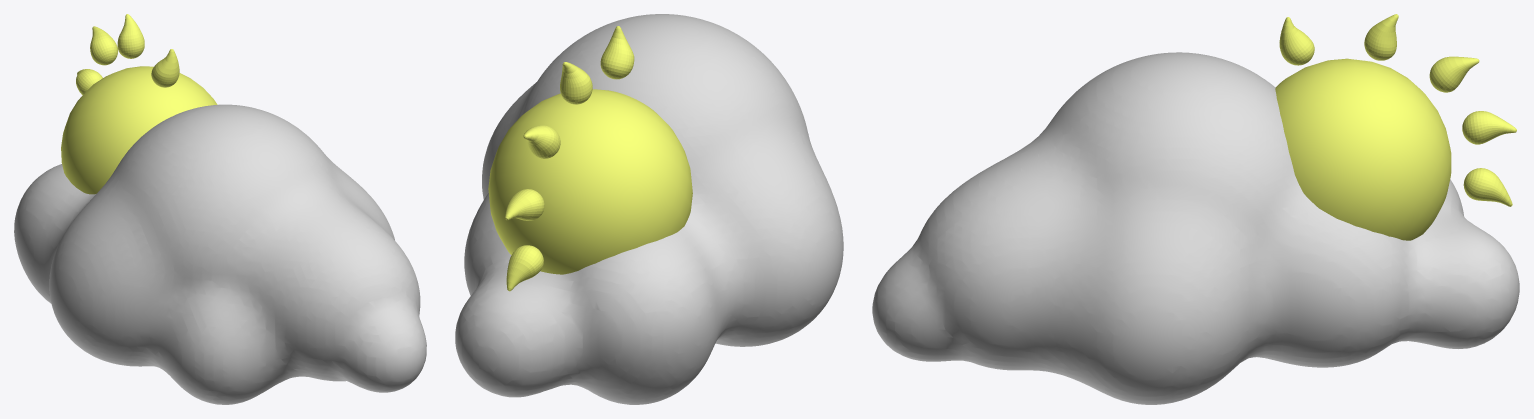
The model's file is mrakSlunce.fbx.
3 renders of one model, left to right at view 1: azimuth 30°, elevation 25°; view 2: azimuth 150°, elevation 25°; view 3: azimuth 270°, elevation 25°, orthographic. The views are drawn at different scales.
Parts seen in each view (by area): view 1: Mball.003, Sphere.011; view 2: Mball.003, Sphere.011; view 3: Mball.003, Sphere.011.
Boxes of the visible parts, <box> form: Mball.003: <box>14,104,426,404</box>; Sphere.011: <box>61,14,217,194</box>; Mball.003: <box>455,14,843,404</box>; Sphere.011: <box>488,26,692,291</box>; Mball.003: <box>872,52,1519,404</box>; Sphere.011: <box>1275,14,1516,240</box>.
Bounding box in the file's own units: 263 × 233 × 398.
